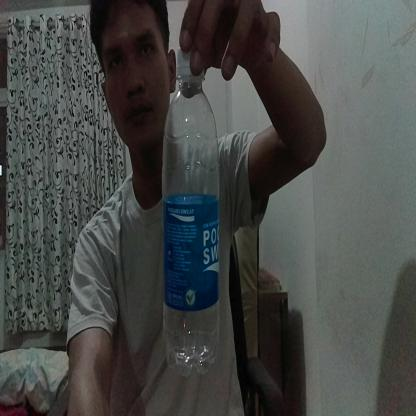plastic_bottles: (162, 48, 222, 374)
